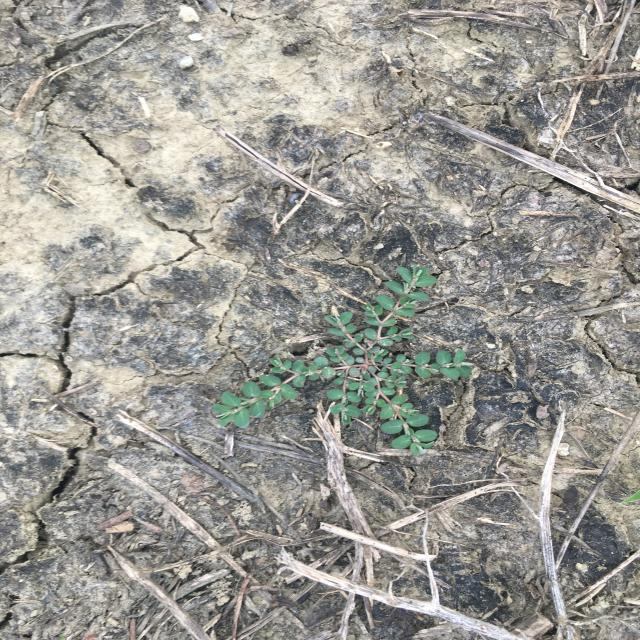SpottedSpurge: (209, 265, 477, 458)
